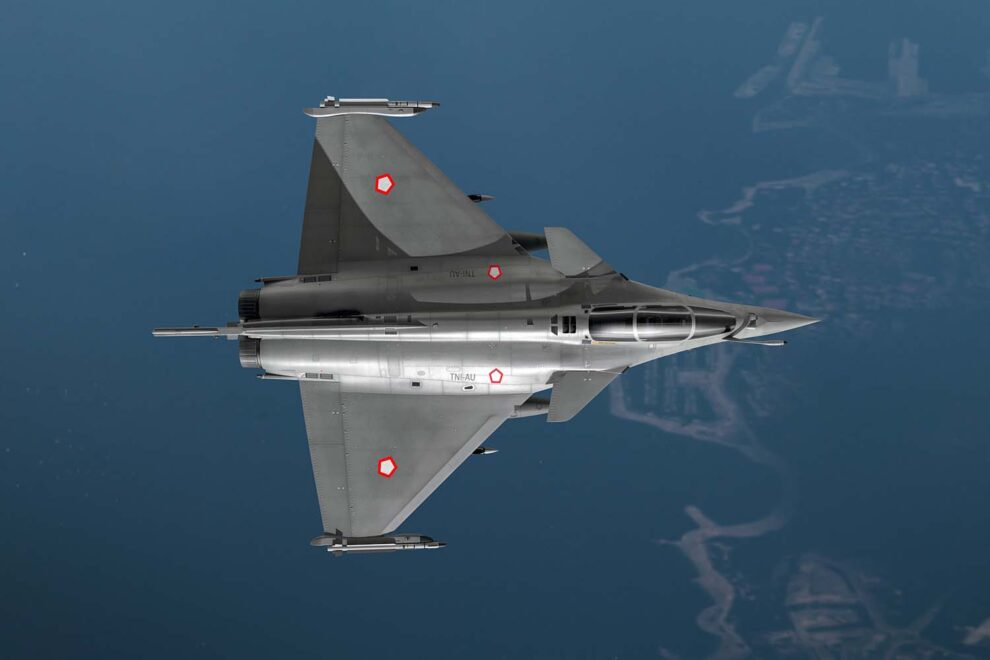Rafale: (143, 87, 827, 564)
